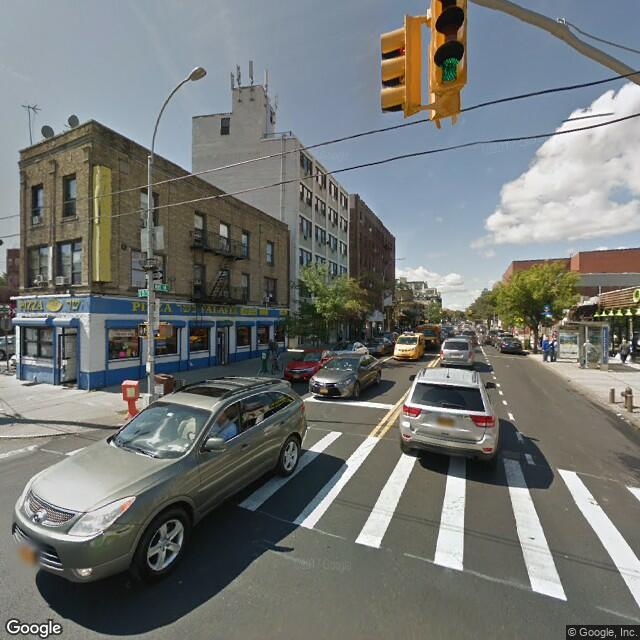litter: (615, 410, 625, 419)
